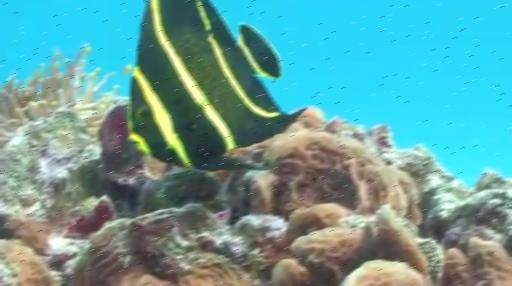Fish: (127, 0, 305, 170)
